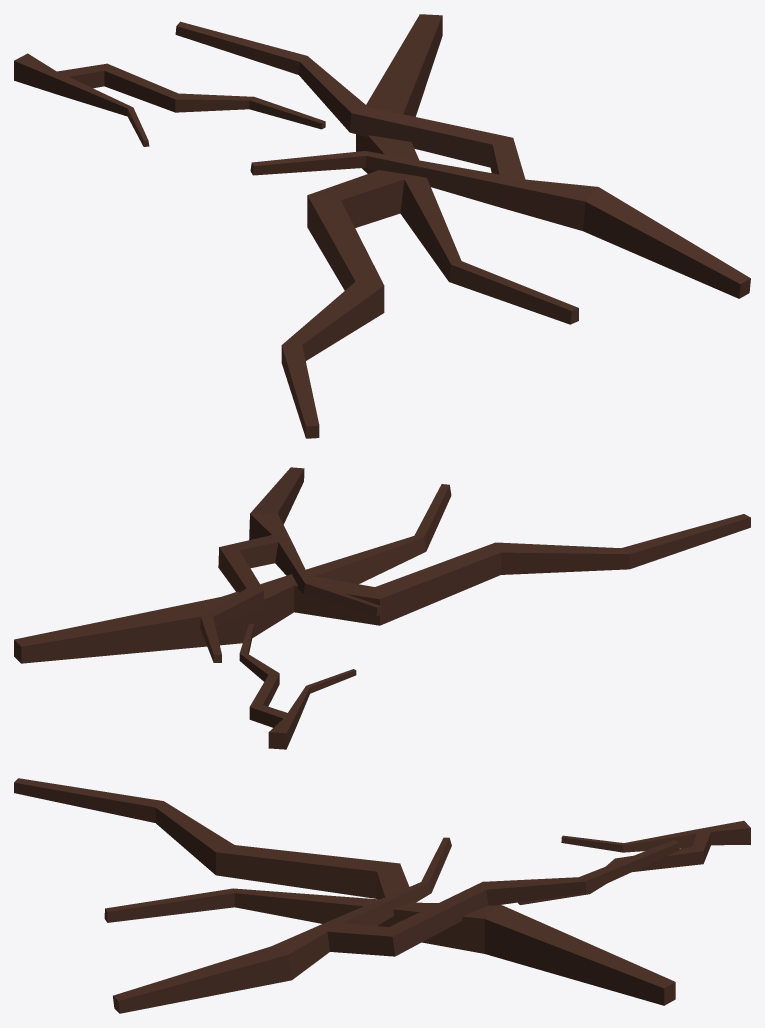
File: winter_flora_4.fbx
The picture shows the model from 3 angles, top to bottom: view 1: azimuth 30°, elevation 25°; view 2: azimuth 150°, elevation 25°; view 3: azimuth 270°, elevation 25°; orthographic projection. The views are drawn at different scales.
Parts seen in each view (by area): view 1: winter_flora_4; view 2: winter_flora_4; view 3: winter_flora_4.
Part boxes in pixels (<box>): winter_flora_4: <box>14,14,750,438</box>; winter_flora_4: <box>14,467,750,749</box>; winter_flora_4: <box>14,778,750,1013</box>.
Size of the model in its own units: 526 by 84.24 by 766.
